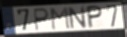7: (16, 8, 31, 32), (106, 4, 118, 28)
M: (50, 6, 72, 31)
N: (67, 6, 88, 30)
P: (87, 5, 104, 30), (33, 7, 50, 32)
